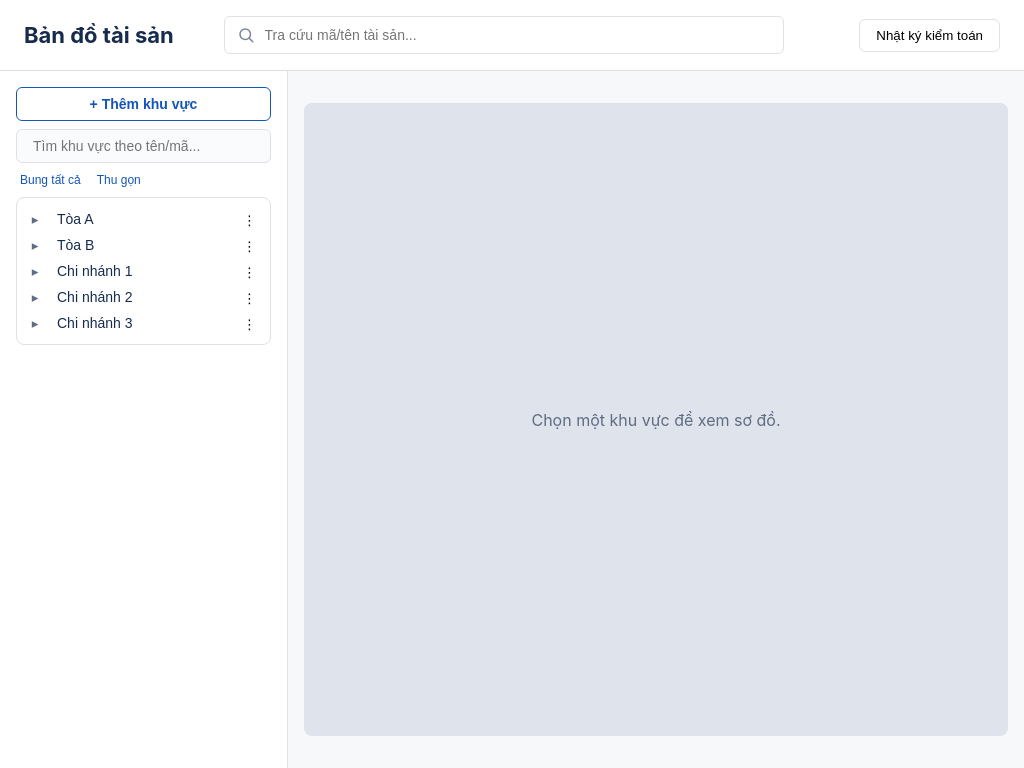
Test: Workspace S01 — cây khu vực › TC-S01-02: mở/đóng nhánh hiện/ẩn con
Click the button named "Mở Tòa A": (35, 219) [25,210,45,228]
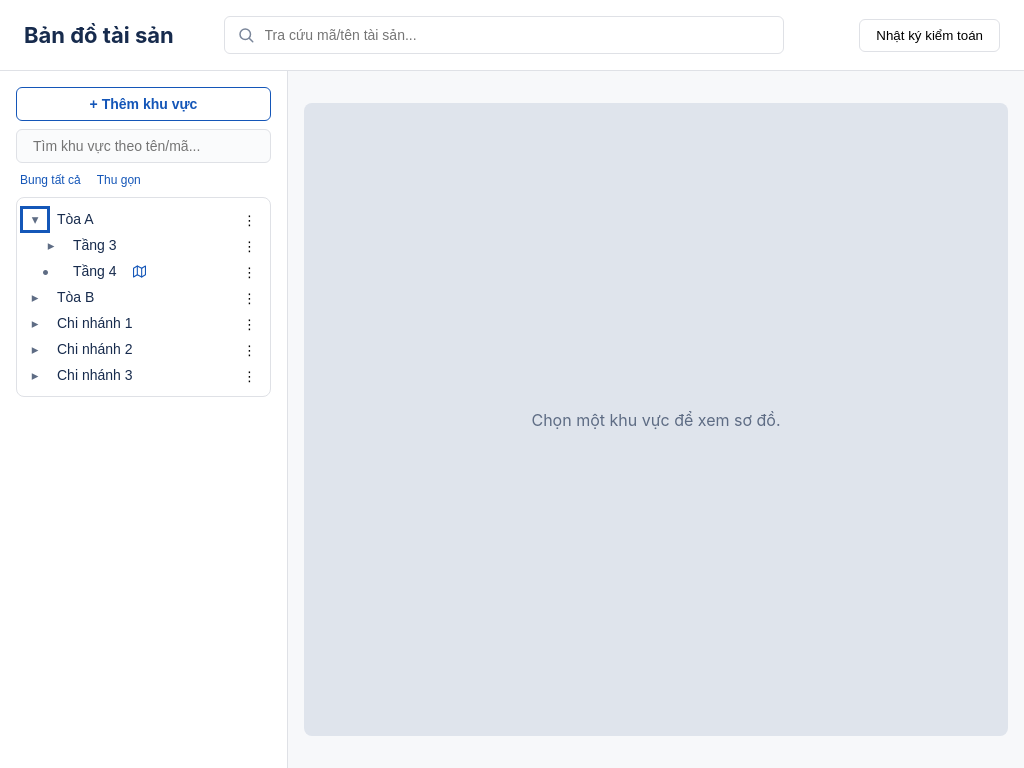
Expected: the button "Tầng 3" is shown, [65,232,125,258]
Click the button named "Đóng Tòa A": (35, 219) [25,210,45,228]
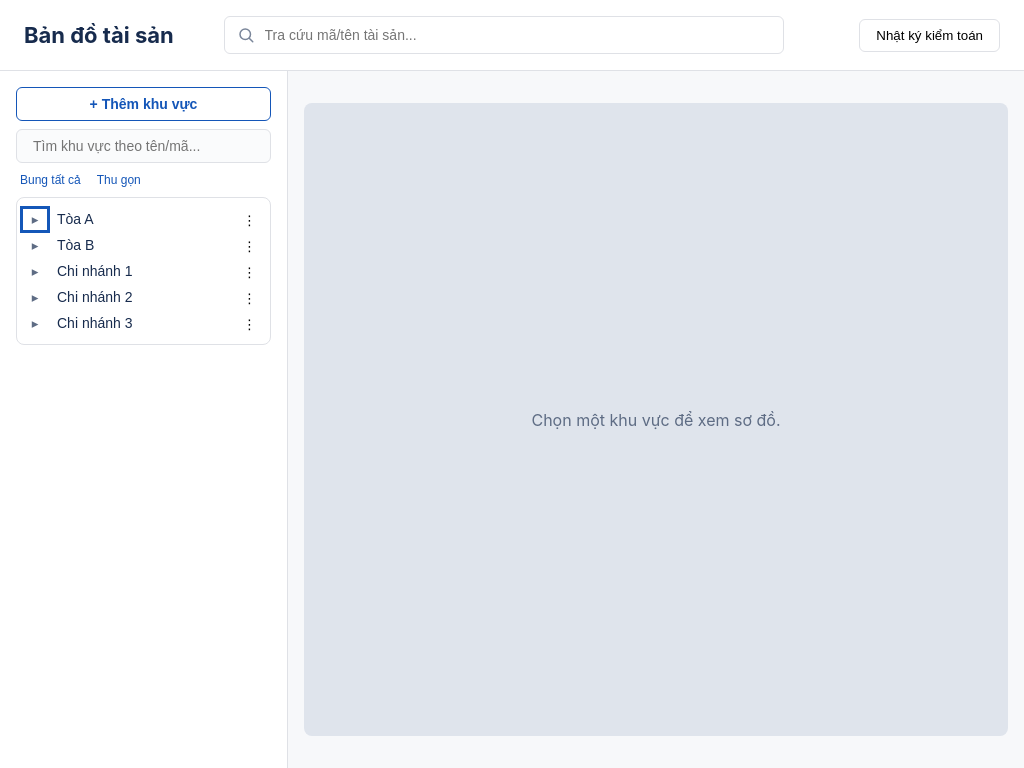
Expected: the button "Tầng 3" is gone
